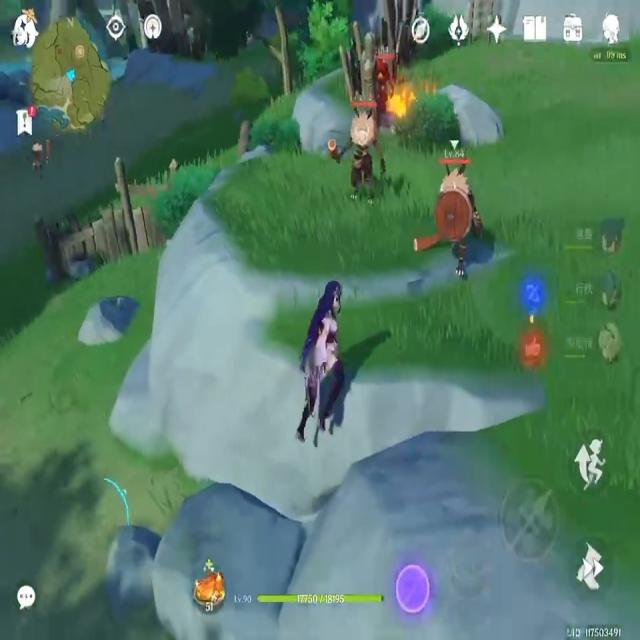genshin-hilichurls: (424, 133, 478, 274), (334, 92, 388, 213), (24, 136, 58, 177), (372, 50, 401, 98)
